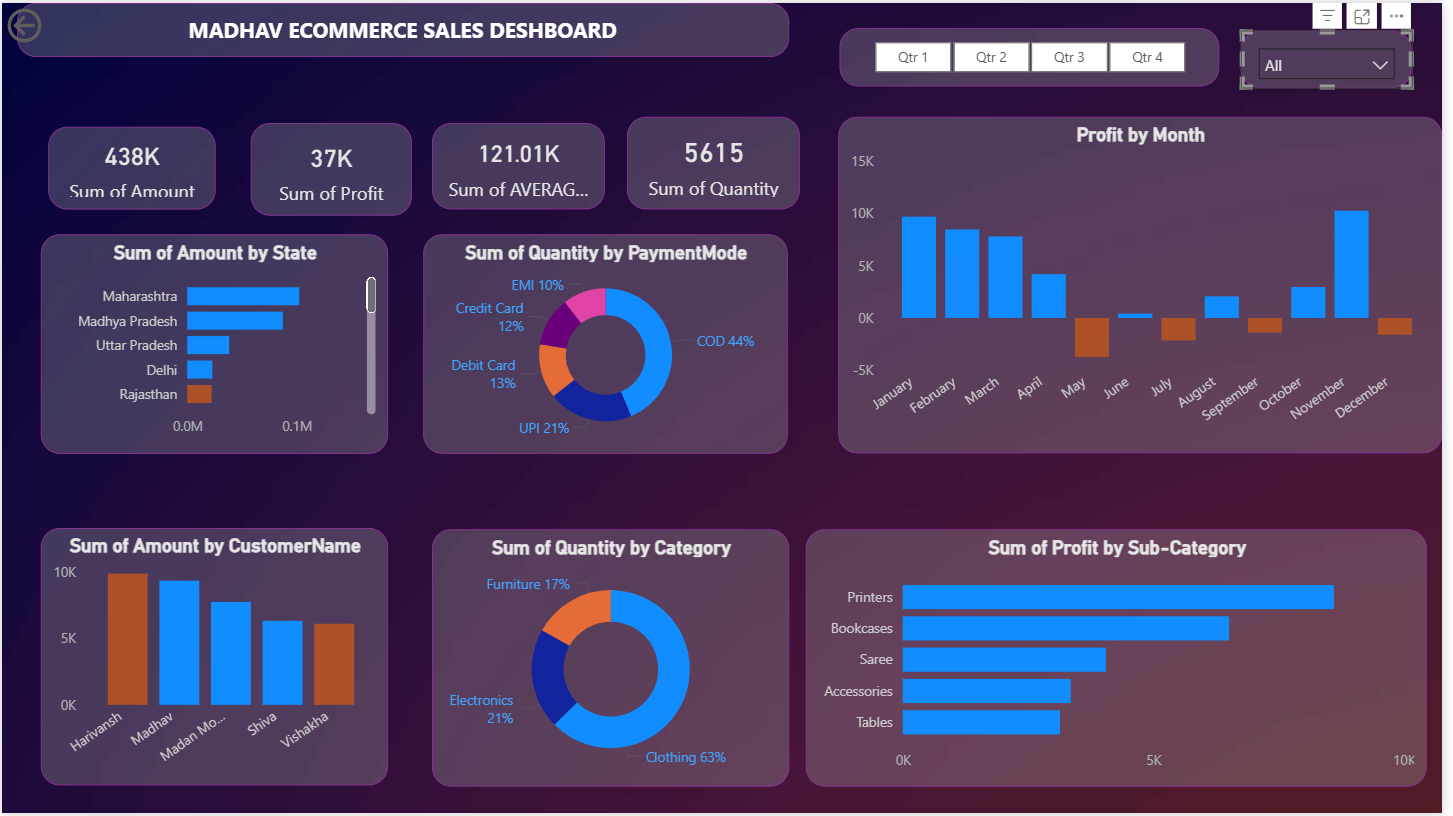

The page's visual inventory and layout, read from the dashboard file:
{"tool":"powerbi","page":{"name":"Page 1","canvas":[1280,720],"ordinal":0},"visuals":[{"type":"textbox","box":[14,12.3,432.2,56.3],"z":0},{"type":"columnChart","title":"Profit by Month","fields":{"Category":["Orders.Order Date.Variation.Date Hierarchy.Month"],"Y":["Sum(Details.Profit)"]},"box":[783.5,116.6,481.6,317],"z":1000},{"type":"barChart","fields":{"Category":["Details.Sub-Category"],"Y":["Sum(Details.Profit)"]},"box":[783.5,462.4,476.2,220.9],"z":2000},{"type":"donutChart","fields":{"Category":["Details.Category"],"Y":["Sum(Details.Quantity)"]},"box":[387,462.4,358.1,220.9],"z":3000},{"type":"donutChart","fields":{"Y":["Sum(Details.Quantity)"],"Category":["Details.PaymentMode"]},"box":[387,229.2,358.1,204.5],"z":4000},{"type":"card","fields":{"Values":["Sum(Details.Quantity)"]},"box":[575,116.6,170.2,101.5],"z":5000},{"type":"card","fields":{"Values":["Sum(Details.Amount)"]},"box":[9.6,116.6,166,101.5],"z":6000},{"type":"card","fields":{"Values":["Sum(Details.Profit)"]},"box":[387,116.6,168.8,101.5],"z":7000},{"type":"card","fields":{"Values":["Sum(Details.AVG)"]},"box":[197.6,116.6,167.4,101.5],"z":8000},{"type":"barChart","fields":{"Category":["Orders.State"],"Y":["Sum(Details.Amount)"]},"box":[9.6,229.2,355.4,204.5],"z":9000},{"type":"columnChart","fields":{"Category":["Orders.CustomerName"],"Y":["Sum(Details.Amount)"]},"box":[10,462,355,221],"z":10000},{"type":"slicer","fields":{"Values":["Orders.Order Date.Variation.Date Hierarchy.Quarter"]},"box":[472,12.3,436.4,67.2],"z":11000},{"type":"slicer","fields":{"Values":["Orders.State"]},"box":[942.7,17.8,299.1,61.7],"z":12000}]}

Visuals, with their boxes in screenshot pixels (x1, y1, x2, y2), scaled from the page's 1280x720 canvas onto the 1453x816 screenshot:
textbox: box(16, 14, 507, 78)
"Profit by Month" columnChart: box(889, 132, 1436, 491)
barChart - Details.Sub-Category x Sum(Details.Profit): box(889, 524, 1430, 774)
donutChart - Details.Category x Sum(Details.Quantity): box(439, 524, 846, 774)
donutChart - Sum(Details.Quantity) x Details.PaymentMode: box(439, 260, 846, 492)
card - Sum(Details.Quantity): box(653, 132, 846, 247)
card - Sum(Details.Amount): box(11, 132, 199, 247)
card - Sum(Details.Profit): box(439, 132, 631, 247)
card - Sum(Details.AVG): box(224, 132, 414, 247)
barChart - Orders.State x Sum(Details.Amount): box(11, 260, 414, 492)
columnChart - Orders.CustomerName x Sum(Details.Amount): box(11, 524, 414, 774)
slicer - Orders.Order Date.Variation.Date Hierarchy.Quarter: box(536, 14, 1031, 90)
slicer - Orders.State: box(1070, 20, 1410, 90)
